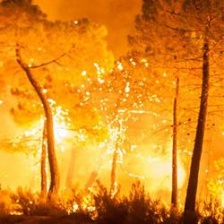fire: (88, 65, 131, 175), (22, 89, 78, 166), (140, 133, 186, 190)
